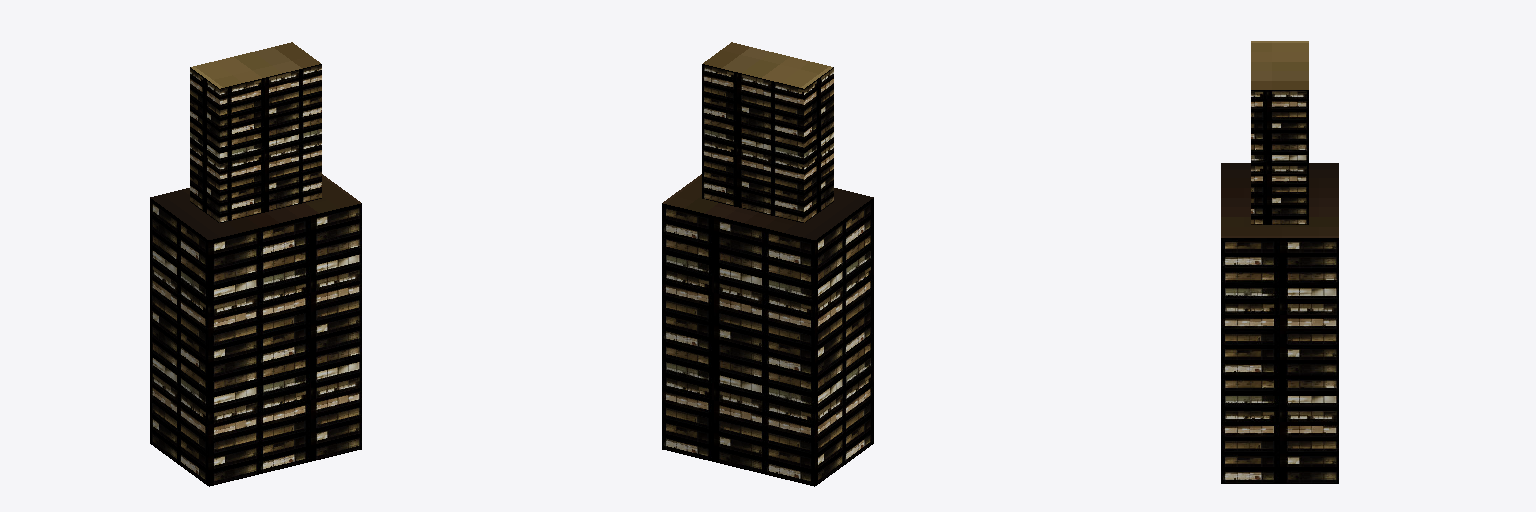
3 renders of one model, left to right at view 1: azimuth 30°, elevation 25°; view 2: azimuth 150°, elevation 25°; view 3: azimuth 270°, elevation 25°, orthographic.
Parts seen in each view (by area): view 1: Cube.003; view 2: Cube.003; view 3: Cube.003.
Part boxes in pixels (bbox=[...]): Cube.003: bbox=[150, 42, 361, 486]; Cube.003: bbox=[662, 42, 873, 486]; Cube.003: bbox=[1221, 41, 1338, 483].
Size of the model in its own units: 0.75 by 1.78 by 0.5.
Materials: 1 (1 with a texture image).